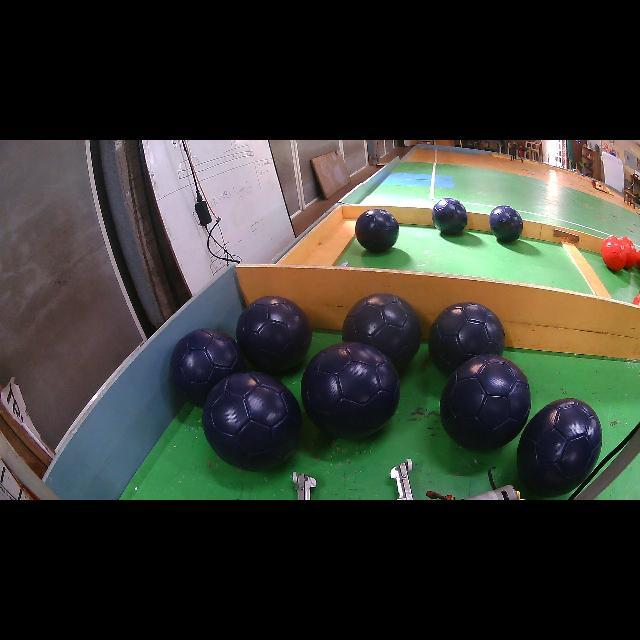B: (202, 372, 301, 471), (301, 342, 400, 439), (440, 355, 531, 450), (518, 398, 602, 497), (342, 294, 421, 371), (170, 329, 246, 406), (236, 295, 312, 372), (429, 302, 505, 375), (355, 209, 399, 253), (431, 198, 468, 235), (489, 205, 522, 242)
R: (601, 236, 626, 271), (619, 236, 636, 268), (632, 292, 640, 306)
